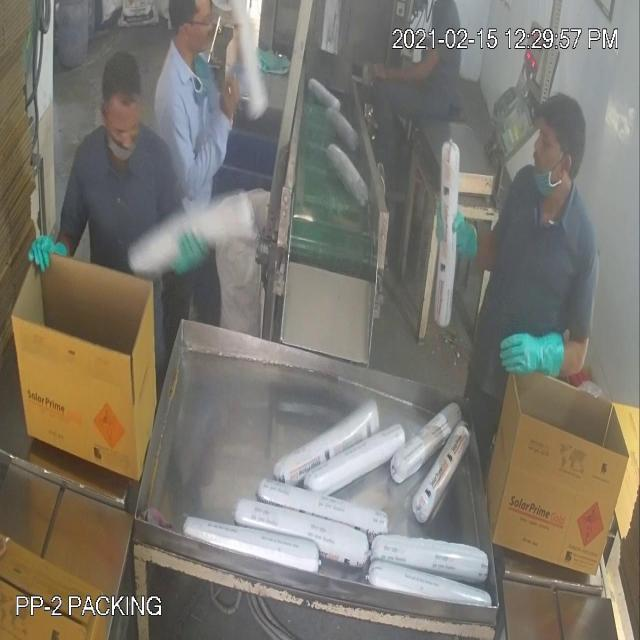gloves: (492, 286, 576, 409), (431, 193, 501, 275), (23, 222, 67, 287)
no-gloves: (186, 67, 248, 205), (366, 38, 448, 97)
